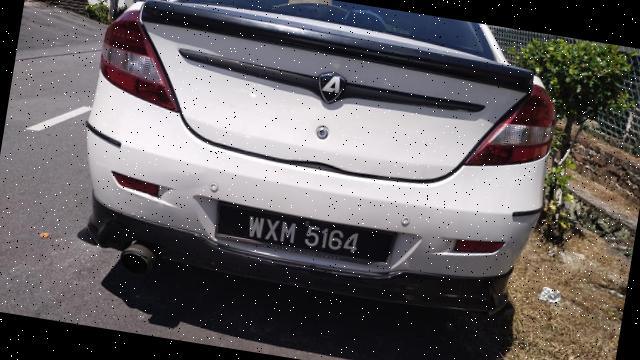License_Plate: (218, 207, 382, 265)
car: (68, 1, 591, 316)
